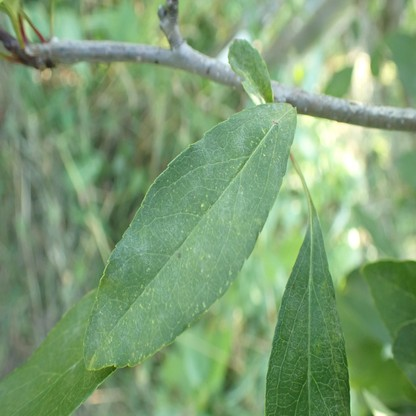powder: (85, 103, 297, 373), (265, 211, 350, 416), (230, 37, 276, 106), (64, 292, 92, 345)
